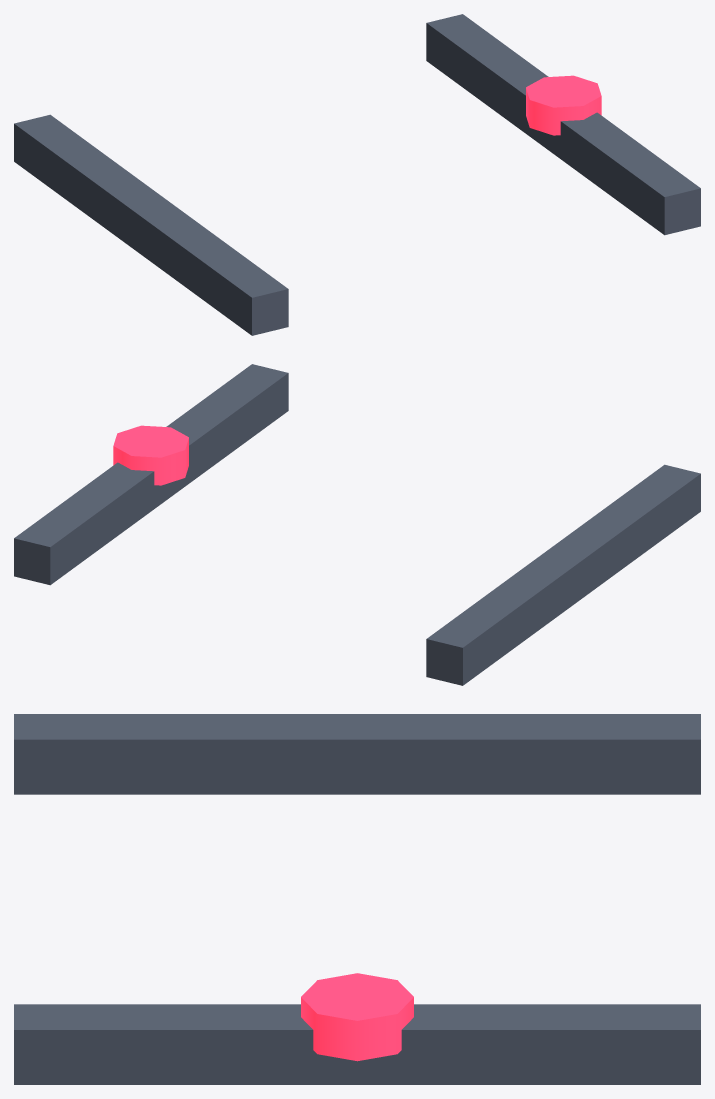
File: tower_filament_peak_s2.glb
3 renders of one model, top to bottom at view 1: azimuth 30°, elevation 25°; view 2: azimuth 150°, elevation 25°; view 3: azimuth 270°, elevation 25°, orthographic. The views are drawn at different scales.
Parts seen in each view (by area): view 1: filament_lens_brace_r, filament_lens_brace_l, filament_up_peak_l2_stud; view 2: filament_lens_brace_r, filament_lens_brace_l, filament_up_peak_l2_stud; view 3: filament_lens_brace_r, filament_lens_brace_l, filament_up_peak_l2_stud.
Boxes of the visible parts, x1,y1,x2,y2 form: filament_lens_brace_r: (14,114,288,335); filament_lens_brace_l: (426,14,700,235); filament_up_peak_l2_stud: (526,75,601,135); filament_lens_brace_r: (426,464,700,685); filament_lens_brace_l: (14,364,288,585); filament_up_peak_l2_stud: (113,425,188,485); filament_lens_brace_r: (14,714,700,794); filament_lens_brace_l: (14,1004,700,1084); filament_up_peak_l2_stud: (301,973,413,1061).
Bounding box in the file's own units: 0.383 × 0.041 × 0.34.
